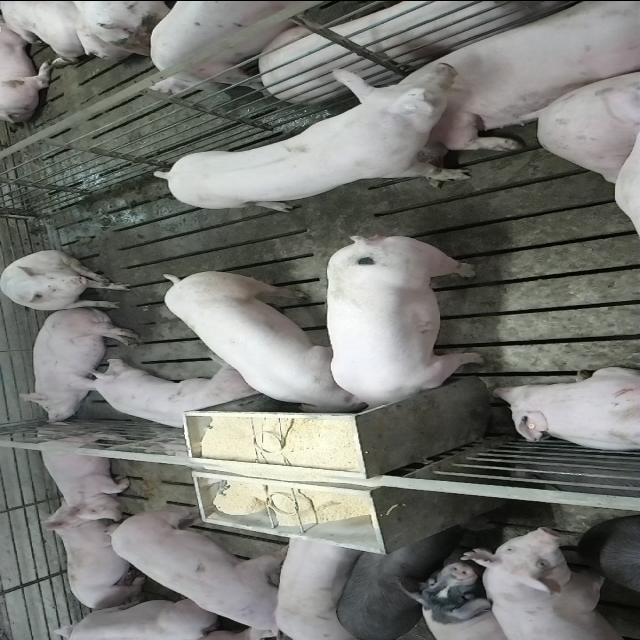Feeding: (160, 264, 362, 412), (324, 240, 485, 418)
Lateral_lying: (15, 306, 141, 425)
Sitting: (1, 250, 135, 312)
Standing: (156, 62, 489, 212), (103, 509, 301, 634), (460, 524, 640, 638), (152, 0, 350, 94), (330, 520, 474, 638), (395, 561, 524, 640), (272, 528, 362, 638)
Sternal_lying: (374, 0, 640, 152), (67, 360, 259, 433), (490, 365, 640, 453), (41, 508, 152, 612), (34, 424, 134, 520)
